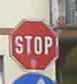stop: (8, 17, 58, 70)
